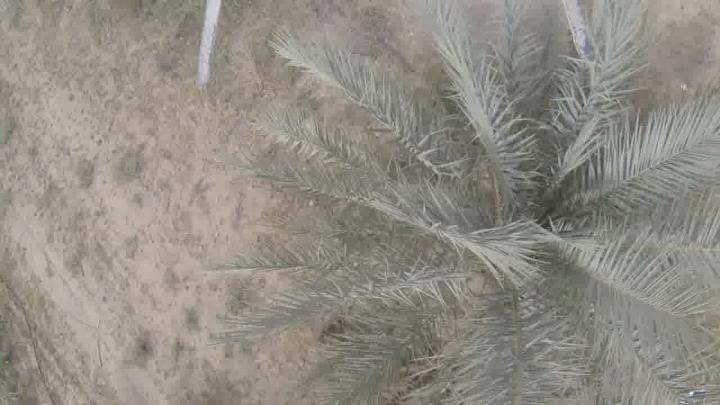Date-Palm-Crown: (391, 78, 720, 386)
